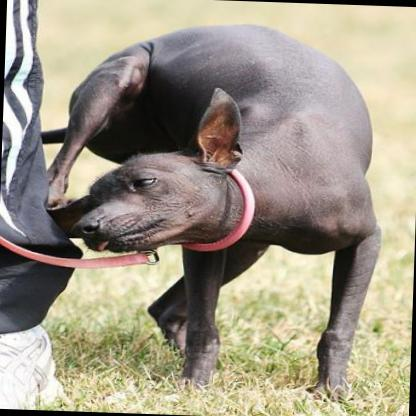Mexican_hairless: (25, 14, 390, 403)
